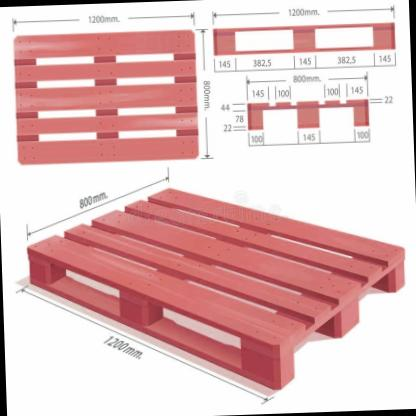BoxFace: (24, 185, 408, 394), (10, 26, 200, 171), (213, 18, 396, 62), (246, 98, 372, 134)
